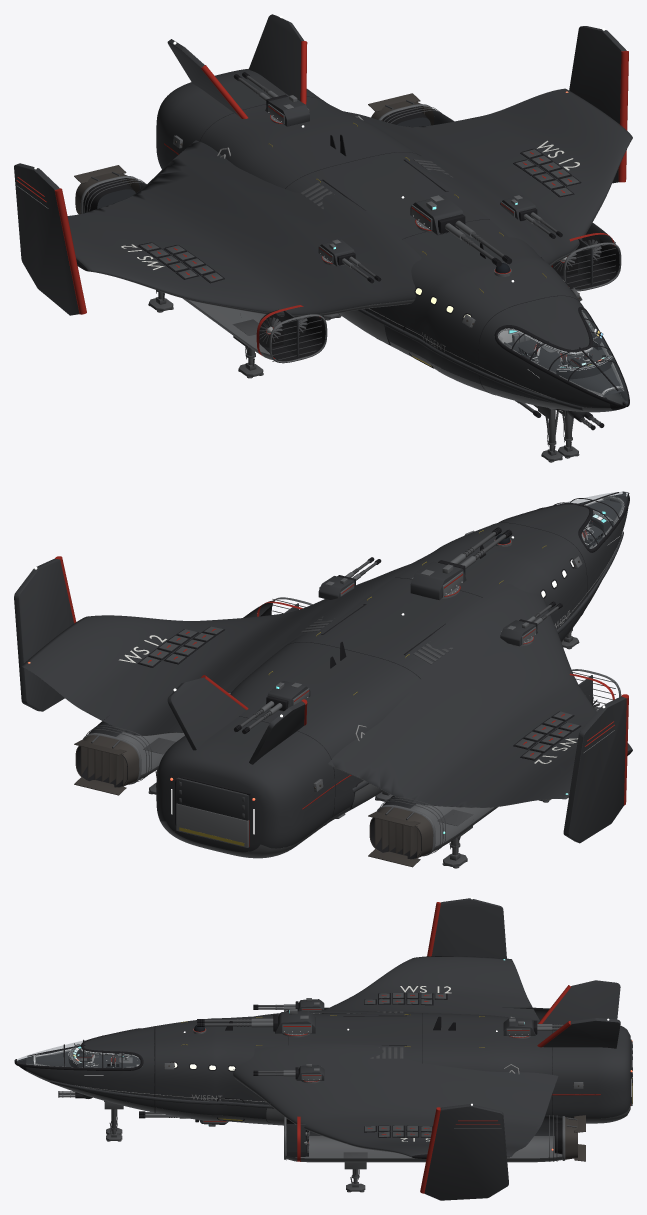
Rendered from Wisent.bdb3426c59.glb.
3 views of the same model, one above another, from view 1: azimuth 30°, elevation 25°; view 2: azimuth 150°, elevation 25°; view 3: azimuth 270°, elevation 25° (orthographic). The views are drawn at different scales.
Visible parts, largest first — view 1: Fluegel links.001, Einlasstrennwand.002, Antenne.003, Abgasschlitz.020, Sichtband Glas.001, Einlassgitter.014, Block.006, Austrittsgelaender.002, Fahrwerkslicht.008, Zellendeckel.020, Duesenklappe.004, Brueckenboden.001 (+5 smaller); view 2: Fluegel links.001, Einlasstrennwand.002, Duesenklappe.004, Antenne.003, Block.006, Einlassgitter.014, Zellendeckel.020, Torblatt.001, Rampenaussenseite.001, Fahrwerkslicht.008, Sichtband Glas.001, Austrittsgelaender.002 (+2 smaller); view 3: Fluegel links.001, Einlasstrennwand.002, Antenne.003, Block.006, Sichtband Glas.001, Austrittsgelaender.002, Einlassgitter.014, Fahrwerkslicht.008, Zellendeckel.020, Brueckenboden.001, Duesenklappe.004, Abgasschlitz.020 (+1 smaller).
Boxes of the visible parts, x1,y1,x2,y2 form: Fluegel links.001: (67, 68, 632, 412); Einlasstrennwand.002: (14, 14, 626, 417); Antenne.003: (137, 72, 629, 430); Abgasschlitz.020: (83, 106, 619, 366); Sichtband Glas.001: (498, 310, 627, 404); Einlassgitter.014: (84, 75, 615, 427); Block.006: (80, 90, 621, 427); Austrittsgelaender.002: (16, 41, 628, 366); Fahrwerkslicht.008: (148, 290, 579, 462); Zellendeckel.020: (140, 149, 579, 281); Duesenklappe.004: (74, 93, 580, 325); Brueckenboden.001: (507, 329, 624, 396); Fluegel links.001: (21, 496, 632, 858); Einlasstrennwand.002: (14, 531, 626, 843); Duesenklappe.004: (74, 560, 579, 867); Antenne.003: (137, 491, 629, 825); Block.006: (82, 530, 621, 856); Einlassgitter.014: (86, 529, 615, 853); Zellendeckel.020: (140, 626, 579, 758); Torblatt.001: (176, 778, 248, 820); Rampenaussenseite.001: (176, 804, 247, 847); Fahrwerkslicht.008: (143, 628, 579, 868); Sichtband Glas.001: (561, 492, 628, 548); Austrittsgelaender.002: (55, 521, 628, 809); Fluegel links.001: (17, 956, 630, 1162); Einlasstrennwand.002: (50, 898, 620, 1200); Antenne.003: (14, 993, 631, 1137); Block.006: (62, 998, 583, 1160); Sichtband Glas.001: (14, 1040, 139, 1067); Austrittsgelaender.002: (77, 902, 600, 1193); Einlassgitter.014: (59, 1004, 577, 1161); Fahrwerkslicht.008: (104, 1101, 367, 1192); Zellendeckel.020: (364, 993, 445, 1136); Brueckenboden.001: (34, 1051, 140, 1067); Duesenklappe.004: (164, 1065, 585, 1161); Abgasschlitz.020: (80, 993, 562, 1157).
Bounding box in the file's own units: 66.3 × 20.35 × 83.3.
